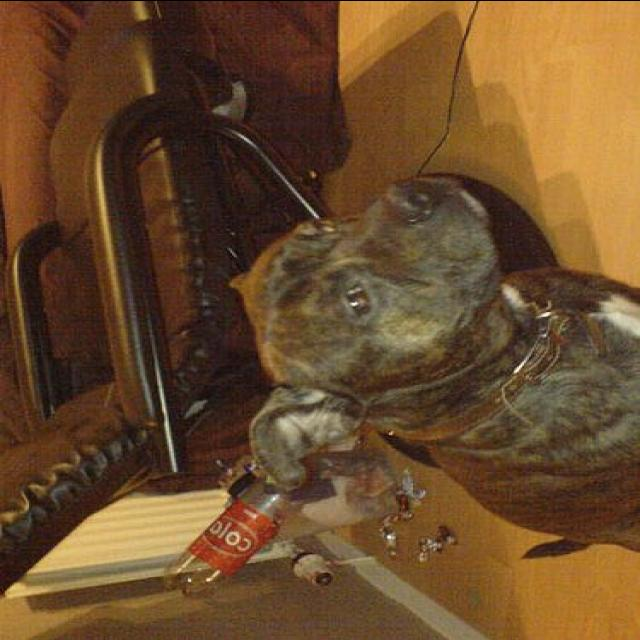staffordshire_bullterrier: (226, 175, 638, 549)
